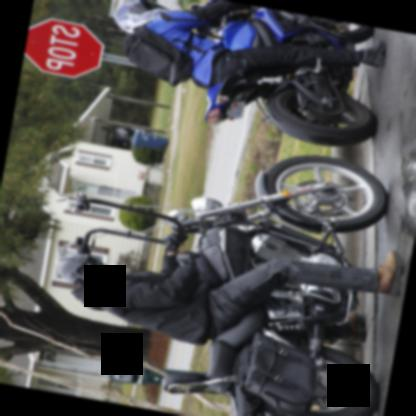backpack: (124, 24, 195, 86)
